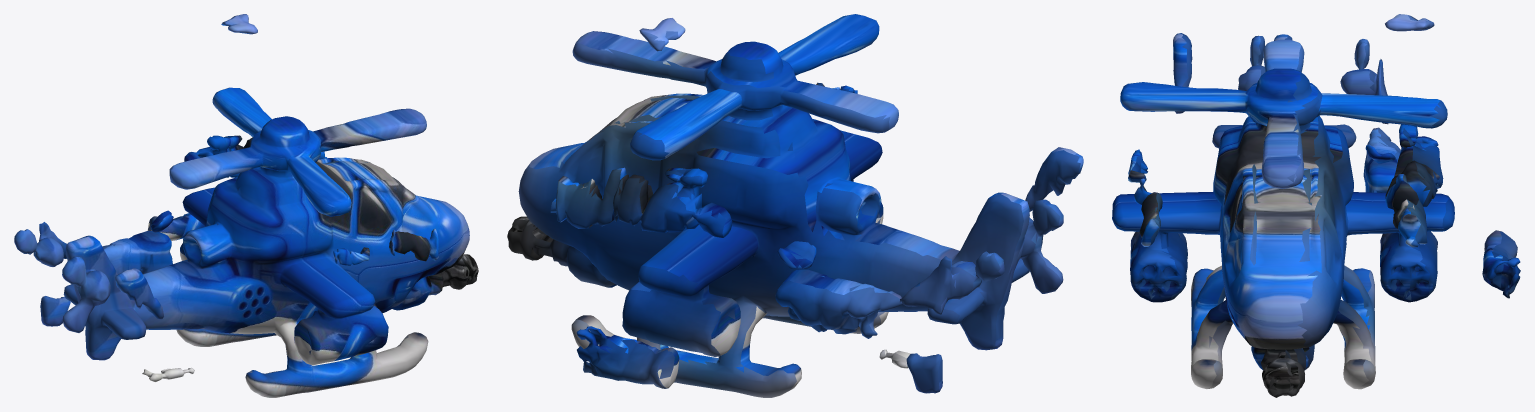
Rendered from blue_heli.glb.
3 views of the same model, side by side, from view 1: azimuth 30°, elevation 25°; view 2: azimuth 150°, elevation 25°; view 3: azimuth 270°, elevation 25° (orthographic). The views are drawn at different scales.
Visible parts, largest first — view 1: blue_heli; view 2: blue_heli; view 3: blue_heli.
Boxes of the visible parts, x1=… form: blue_heli: x1=14, y1=14, x2=478, y2=397; blue_heli: x1=507, y1=14, x2=1083, y2=397; blue_heli: x1=1112, y1=14, x2=1520, y2=397.
Size of the model in its own units: 10 by 6.87 by 7.61.
Materials: 1 (1 with a texture image).
